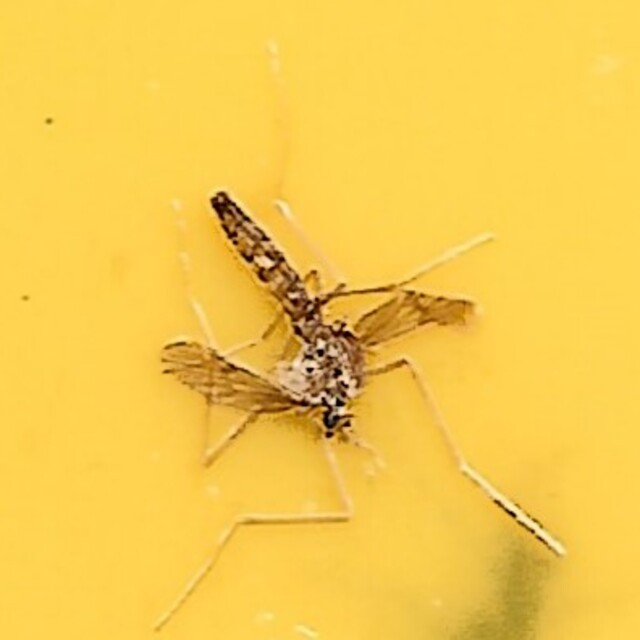Nematocera: (162, 184, 478, 456)
